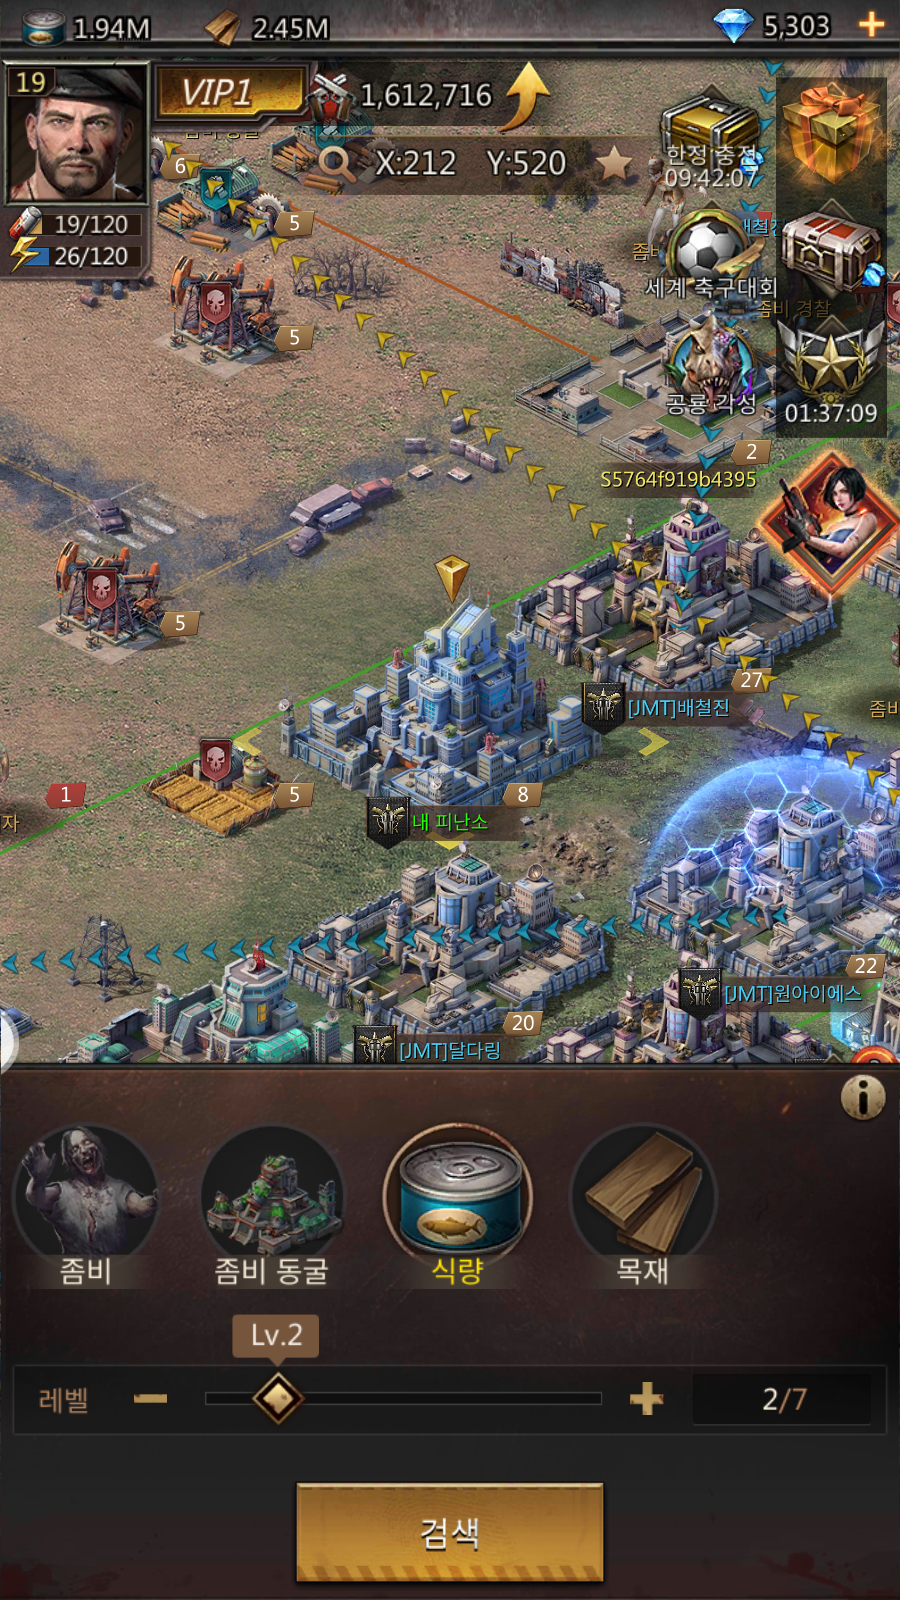rss_food_in_panel: (384, 1119, 536, 1291)
rss_lv2: (229, 1312, 322, 1356)
rss_minus_in_panel: (125, 1374, 178, 1419)
rss_plus_in_panel: (620, 1376, 671, 1422)
rss_search_in_panel: (295, 1485, 605, 1574)
rss_wood_in_panel: (571, 1120, 722, 1298)
